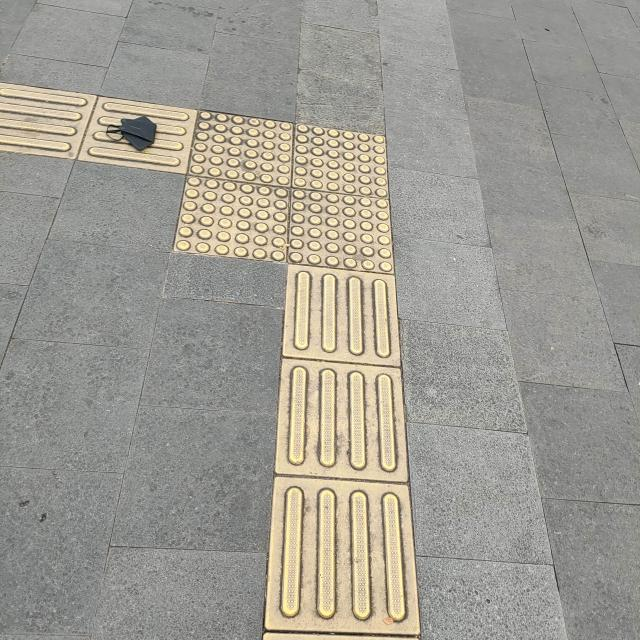kiri: (0, 35, 496, 358)
